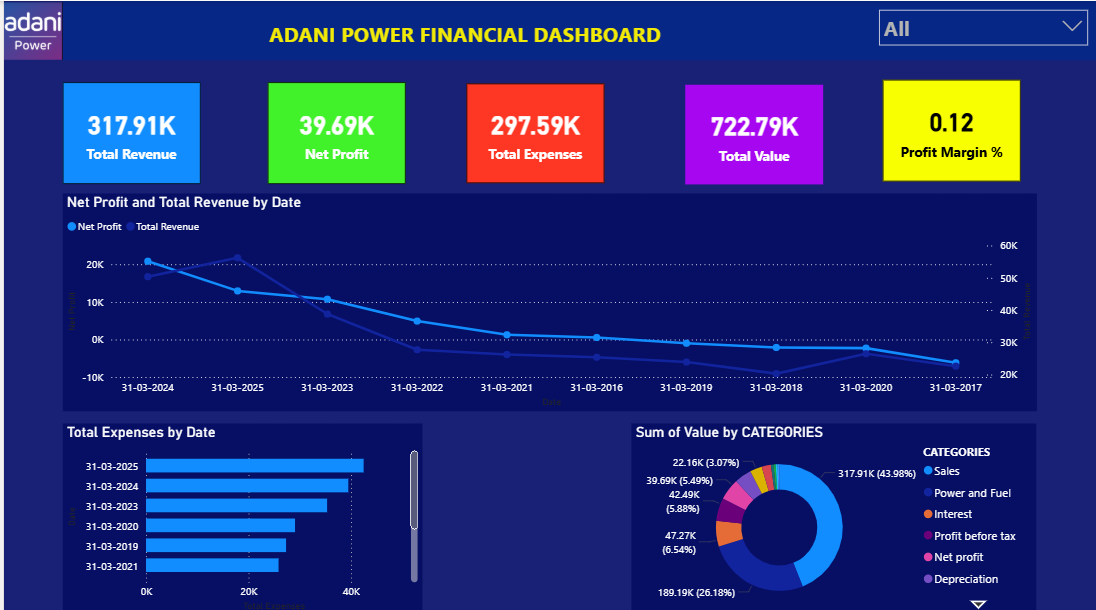

This screenshot's page, from the dashboard's own definition file:
{"tool":"powerbi","page":{"name":"Financial Overview","canvas":[1280,720],"ordinal":0},"visuals":[{"type":"actionButton","box":[0,0,100,40],"z":0},{"type":"card","fields":{"Values":["P&L.Total Revenue"]},"box":[68.6,94.7,161.9,119.4],"z":1000},{"type":"card","fields":{"Values":["P&L.Net Profit"]},"box":[308.7,94.7,161.9,119.4],"z":2000},{"type":"card","fields":{"Values":["P&L.Total Expenses"]},"box":[542,96.1,161.9,116.6],"z":3000},{"type":"card","fields":{"Values":["P&L.Profit Margin %"]},"box":[1030.5,91.9,161.9,119.4],"z":4000},{"type":"slicer","fields":{"Values":["P&L.Year"]},"box":[1015.4,0,264.8,70],"z":5000},{"type":"textbox","box":[68.6,0,946.8,70],"z":6000},{"type":"lineChart","fields":{"Category":["P&L.Date"],"Y":["P&L.Net Profit"],"Y2":["P&L.Total Revenue"]},"box":[68.6,225,1141.7,255.2],"z":7000},{"type":"donutChart","fields":{"Category":["P&L.CATEGORIES"],"Y":["Sum(P&L.Value)"]},"box":[735.5,495.4,474.8,225],"z":8000},{"type":"clusteredBarChart","fields":{"Category":["P&L.Date"],"Y":["P&L.Total Expenses"]},"box":[68.6,495.4,421.3,225],"z":9000},{"type":"image","box":[0,0,68.6,70],"z":10000},{"type":"card","fields":{"Values":["P&L.Total Value"]},"box":[798.6,97.4,161.9,116.6],"z":11000}]}

Visuals, with their boxes in screenshot pixels (x1, y1, x2, y2), scaled from the page's 1280x720 canvas onto the 1096x610 screenshot:
actionButton: 0/0/86/34
card - P&L.Total Revenue: 59/80/197/181
card - P&L.Net Profit: 264/80/403/181
card - P&L.Total Expenses: 464/81/603/180
card - P&L.Profit Margin %: 882/78/1021/179
slicer - P&L.Year: 869/0/1095/59
textbox: 59/0/869/59
lineChart - P&L.Date x P&L.Net Profit: 59/191/1036/407
donutChart - P&L.CATEGORIES x Sum(P&L.Value): 630/420/1036/609
clusteredBarChart - P&L.Date x P&L.Total Expenses: 59/420/419/609
image: 0/0/59/59
card - P&L.Total Value: 684/83/822/181
